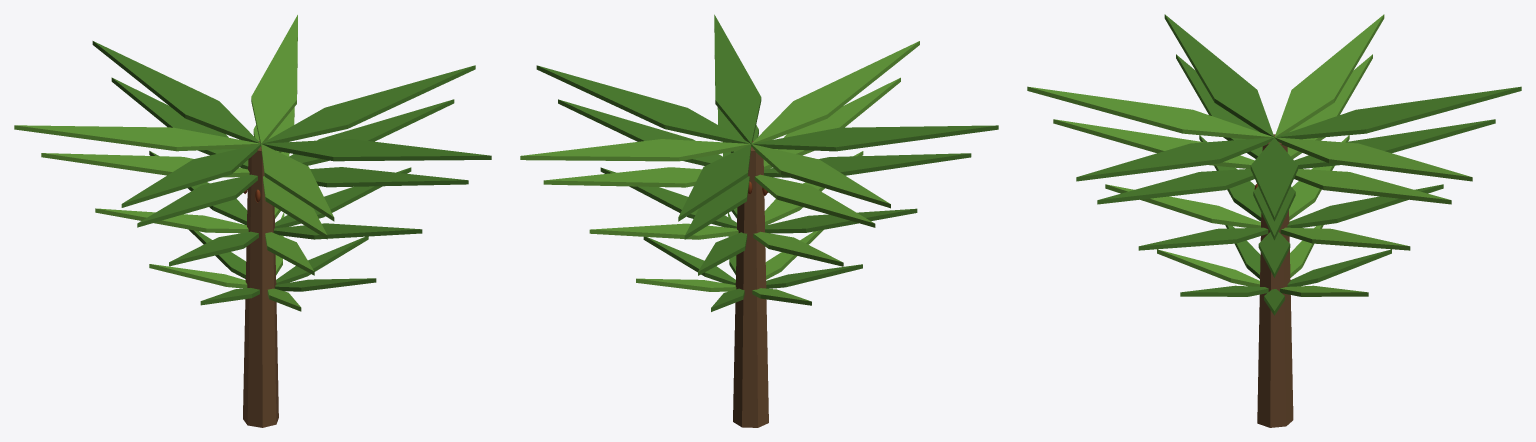
Rendered from Crop_Fruit_Date.fbx.
The picture shows the model from 3 angles, left to right: view 1: azimuth 30°, elevation 25°; view 2: azimuth 150°, elevation 25°; view 3: azimuth 270°, elevation 25°; orthographic projection. The views are drawn at different scales.
Parts seen in each view (by area): view 1: Crop_Fruit_Date__S4, Crop_Fruit_Date__S3, Crop_Fruit_Date__S2, Crop_Fruit_Date__S1; view 2: Crop_Fruit_Date__S4, Crop_Fruit_Date__S3, Crop_Fruit_Date__S2, Crop_Fruit_Date__S1; view 3: Crop_Fruit_Date__S4, Crop_Fruit_Date__S3, Crop_Fruit_Date__S2, Crop_Fruit_Date__S1.
Part boxes in pixels (x1,y1,x2,y2): Crop_Fruit_Date__S4: [14, 15, 491, 427]; Crop_Fruit_Date__S3: [41, 77, 468, 239]; Crop_Fruit_Date__S2: [95, 151, 422, 275]; Crop_Fruit_Date__S1: [149, 213, 376, 311]; Crop_Fruit_Date__S4: [520, 14, 998, 427]; Crop_Fruit_Date__S3: [543, 77, 971, 239]; Crop_Fruit_Date__S2: [589, 151, 917, 275]; Crop_Fruit_Date__S1: [636, 213, 862, 311]; Crop_Fruit_Date__S4: [1027, 14, 1521, 427]; Crop_Fruit_Date__S3: [1053, 54, 1495, 240]; Crop_Fruit_Date__S2: [1105, 135, 1443, 277]; Crop_Fruit_Date__S1: [1157, 225, 1391, 315].
Bounding box in the file's own units: 0.8127 × 0.5765 × 0.8336.
